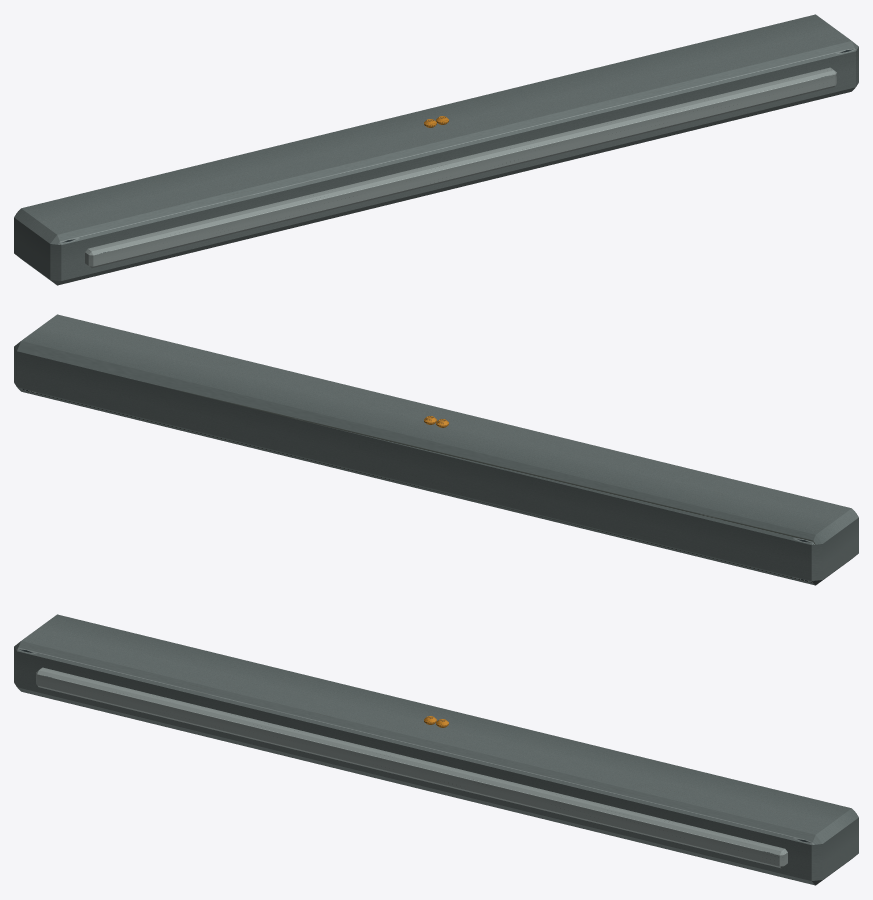
File: beam_4m_LOD0.obj
The picture shows the model from 3 angles, top to bottom: view 1: azimuth 30°, elevation 25°; view 2: azimuth 150°, elevation 25°; view 3: azimuth 330°, elevation 25°; orthographic projection.
Parts seen in each view (by area): view 1: L02_beam_4m_LOD0; view 2: L02_beam_4m_LOD0; view 3: L02_beam_4m_LOD0.
Part boxes in pixels (bbox=[...]): L02_beam_4m_LOD0: bbox=[14, 14, 858, 285]; L02_beam_4m_LOD0: bbox=[14, 314, 858, 585]; L02_beam_4m_LOD0: bbox=[14, 614, 858, 885].
Bounding box in the file's own units: 4 × 0.267 × 0.43.
1 material, 1 textured.
